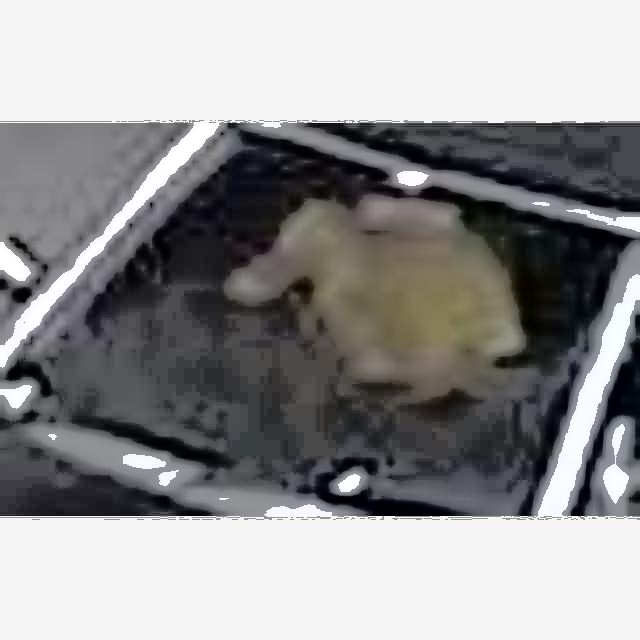tidak-pakai: (232, 172, 506, 439)
